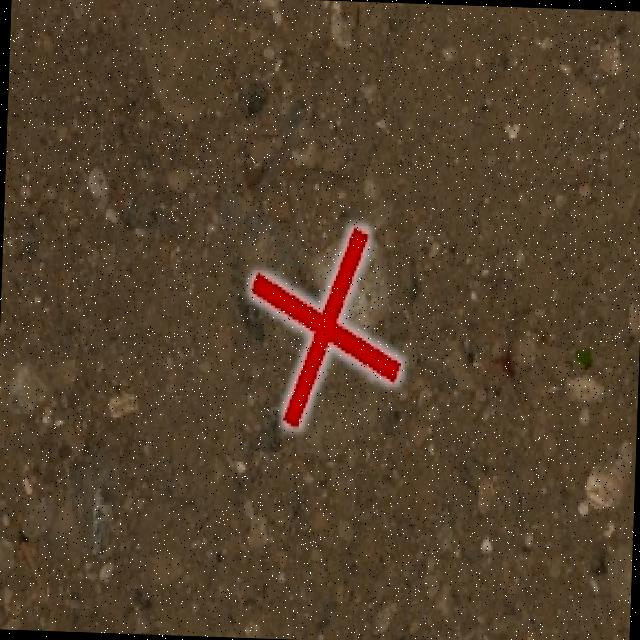x_marker: (246, 223, 404, 428)
